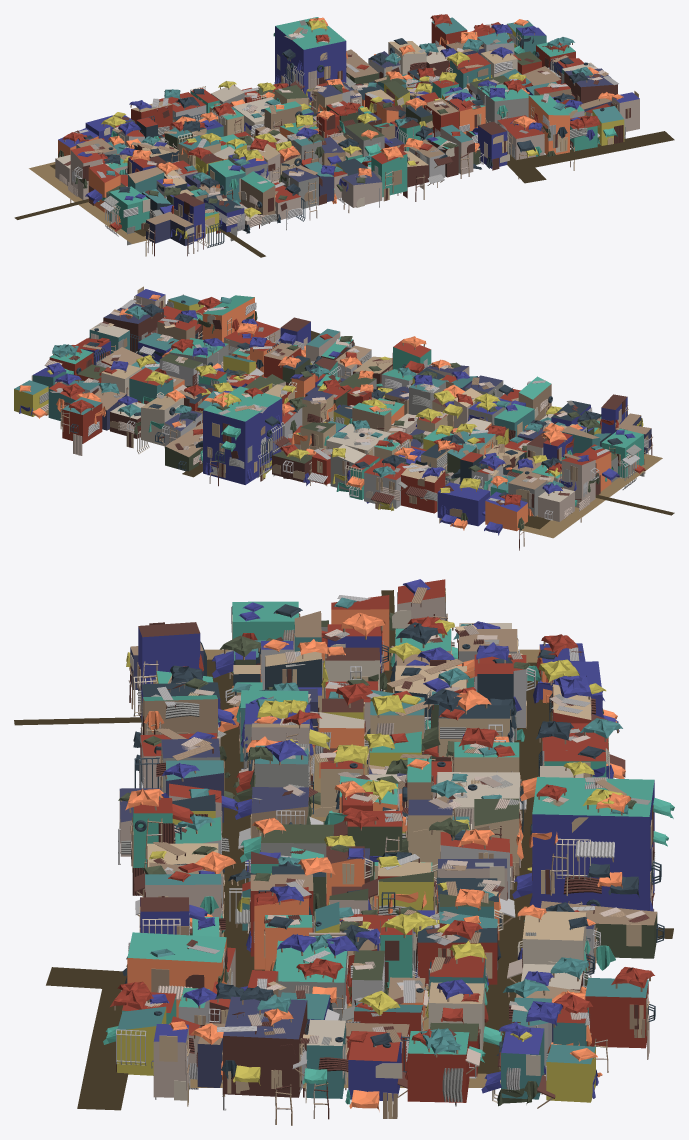
Rendered from TD_Env4.fbx.
3 renders of one model, top to bottom at view 1: azimuth 30°, elevation 25°; view 2: azimuth 150°, elevation 25°; view 3: azimuth 270°, elevation 25°, orthographic. The views are drawn at different scales.
Parts seen in each view (by area): view 1: Env_TD_04; view 2: Env_TD_04; view 3: Env_TD_04.
Part boxes in pixels (x1,y1,x2,y2): Env_TD_04: (14, 14, 674, 257); Env_TD_04: (14, 286, 674, 550); Env_TD_04: (14, 579, 674, 1125).
Size of the model in its own units: 9493 by 1408 by 5097.
3 materials, 1 textured.
